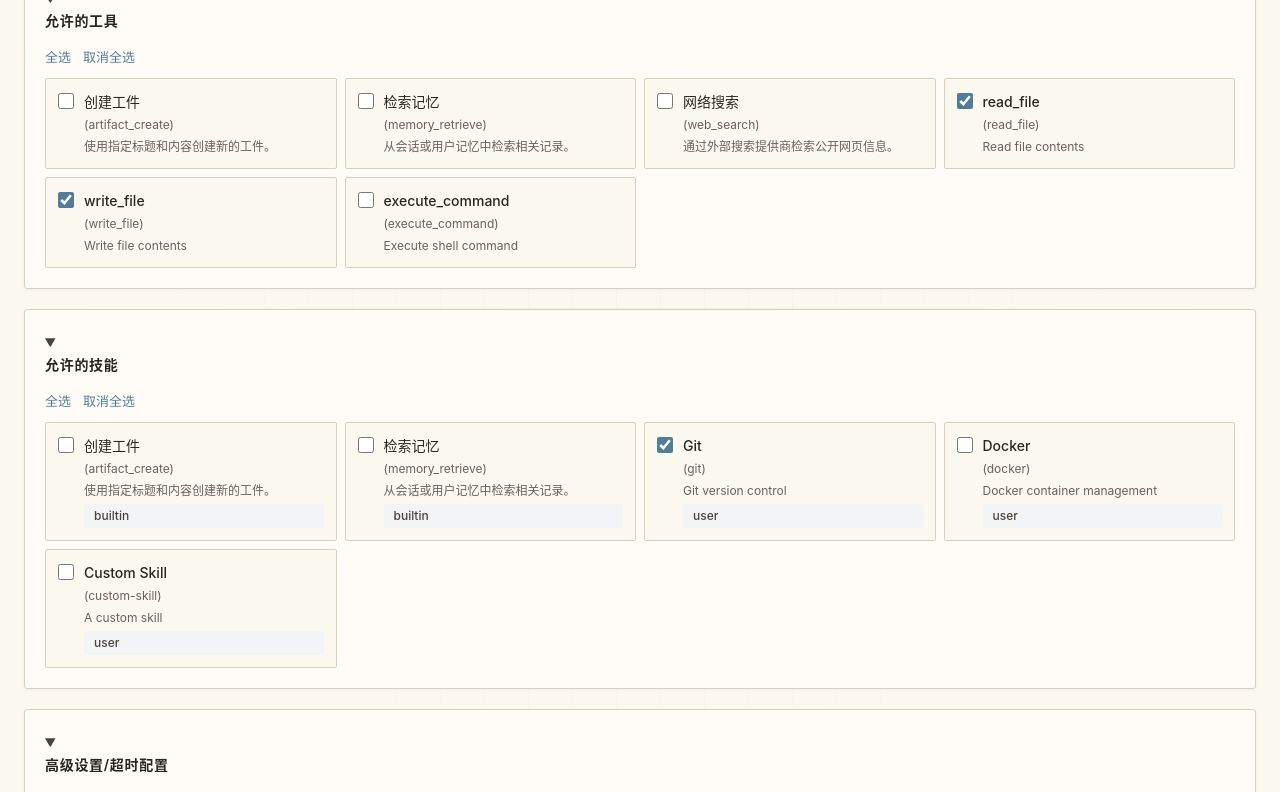
Test: AgentsTab › Form Interactions › should deselect all skills when deselect all clicked
The image size is (1280, 792).
(page scrolled)
Click the button with test id "deselect-all-skills-btn" at (109, 400), box [83,390,135,410]
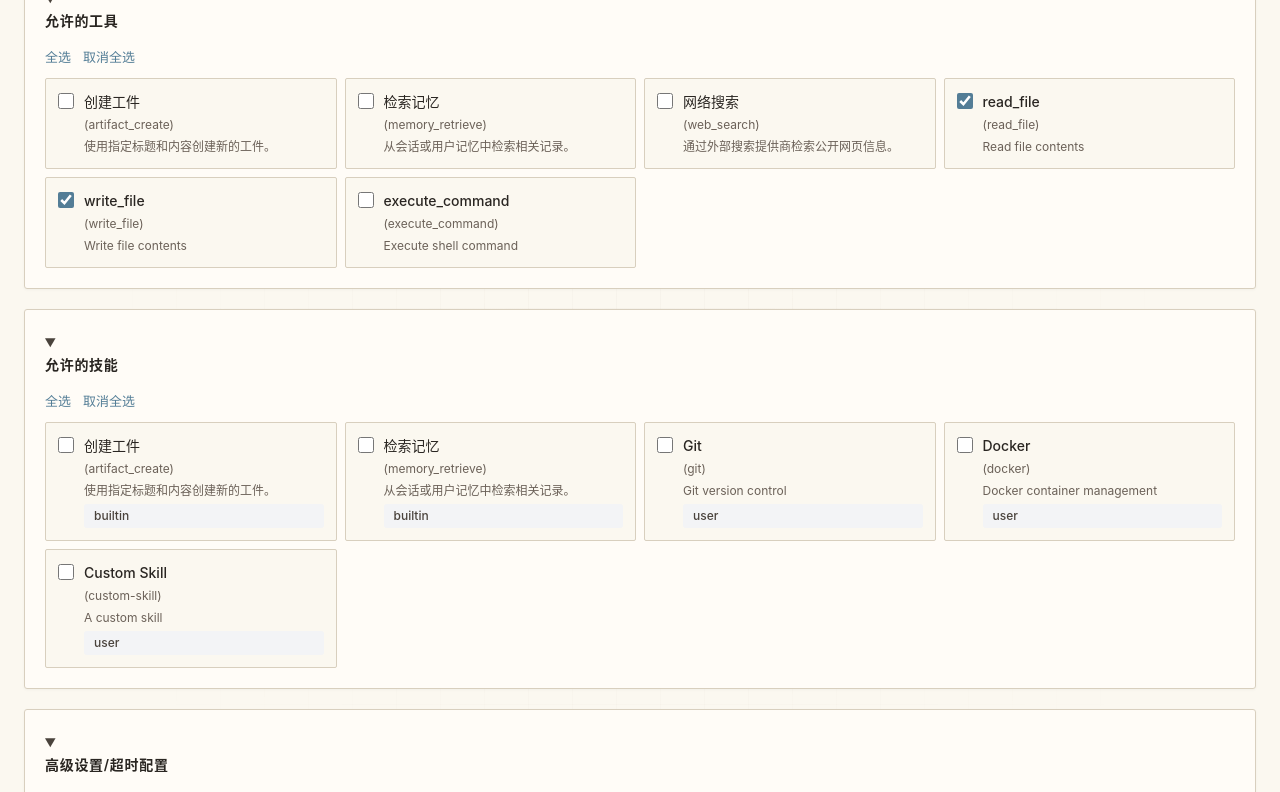
Check: the checkbox with test id "skill-checkbox-docker" is not checked, box [956,436,972,452]
Check: the checkbox with test id "skill-checkbox-git" is not checked, box [657,436,673,452]
